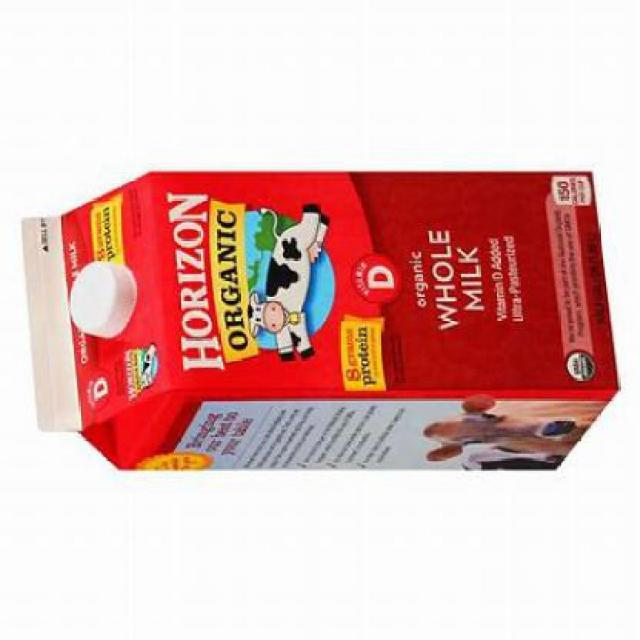non_white_jug: (19, 167, 626, 477)
